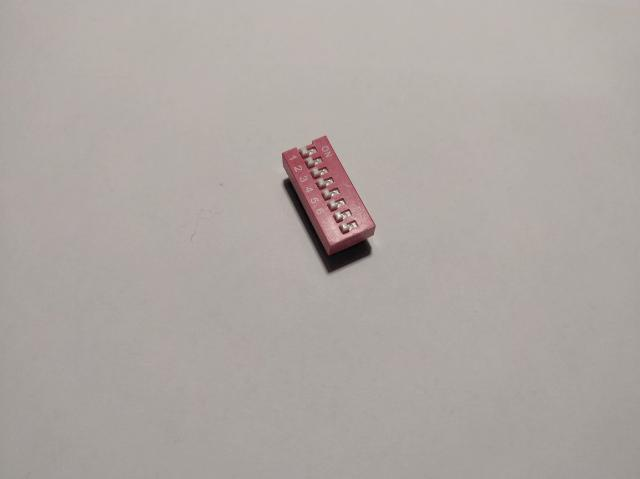dip_switch: (282, 134, 376, 258)
